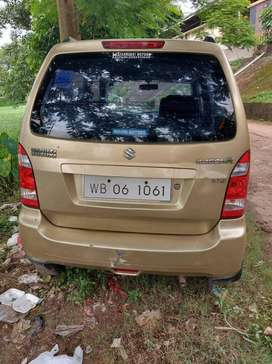WB061061: (84, 174, 170, 199)
